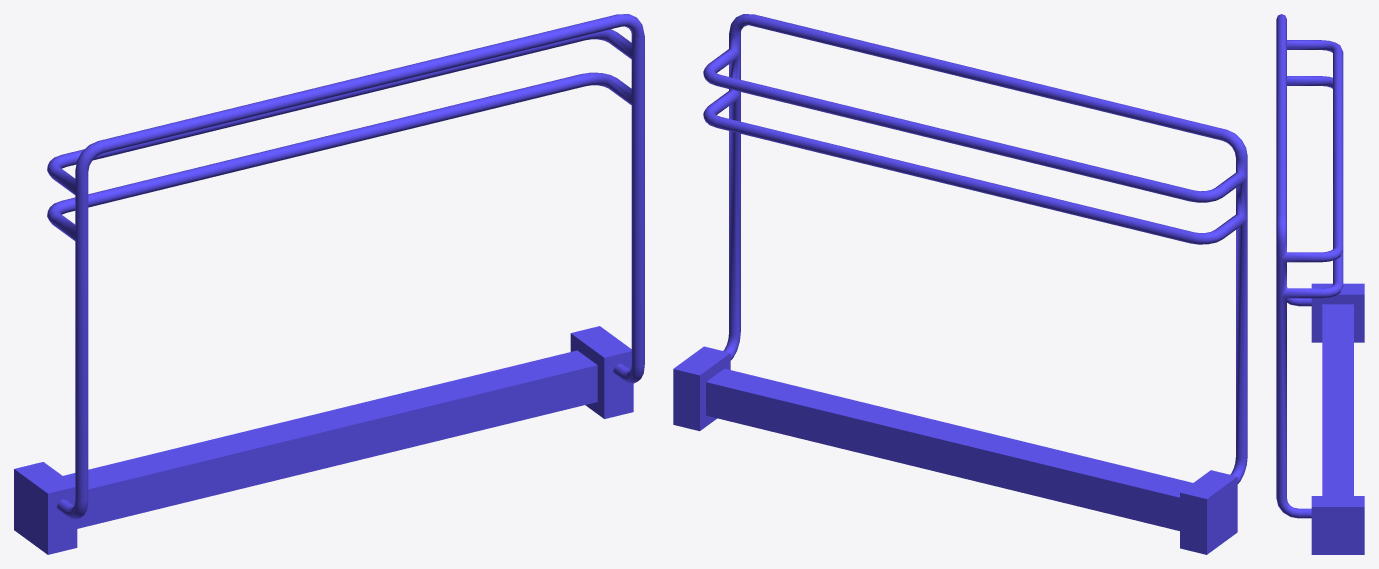
File: Fence_01_Straight.FBX
The picture shows the model from 3 angles, left to right: view 1: azimuth 30°, elevation 25°; view 2: azimuth 150°, elevation 25°; view 3: azimuth 270°, elevation 25°; orthographic projection. The views are drawn at different scales.
Visible parts, largest first — view 1: Fence_01_Straight; view 2: Fence_01_Straight; view 3: Fence_01_Straight.
Part boxes in pixels (x1,y1,x2,y2): Fence_01_Straight: [14, 14, 644, 554]; Fence_01_Straight: [673, 14, 1247, 554]; Fence_01_Straight: [1276, 14, 1364, 554].
Bounding box in the file's own units: 2 × 1.37 × 0.3337.
